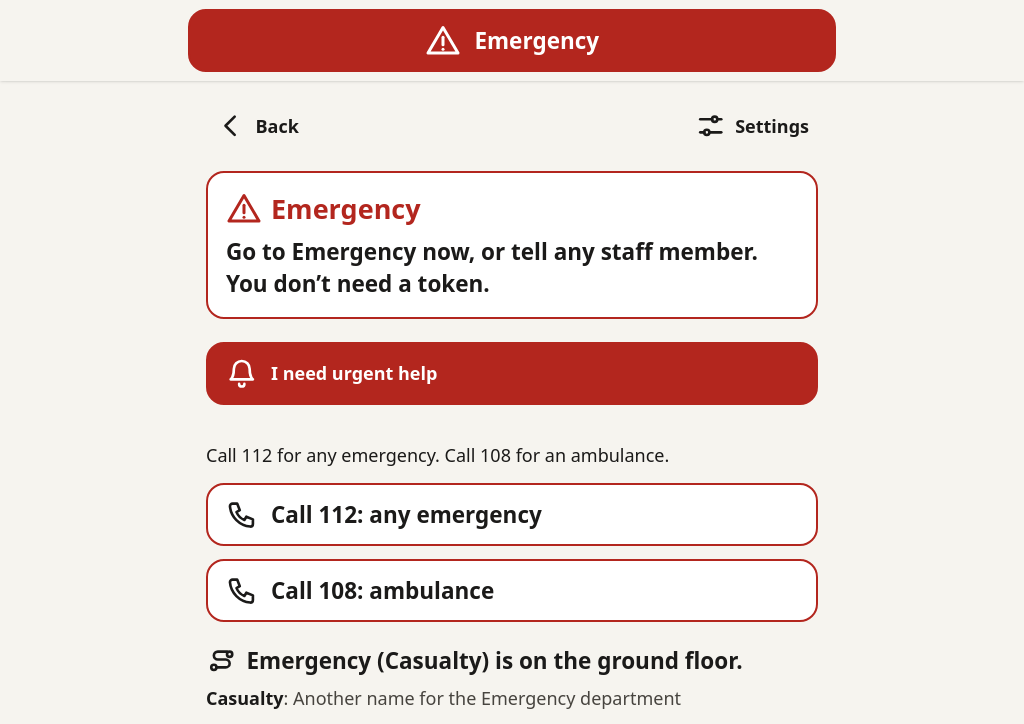
Scenario: I need urgent help › says staff have not been told while nothing is connected
Click the button "I need urgent help": (242, 373) [206,342,818,404]
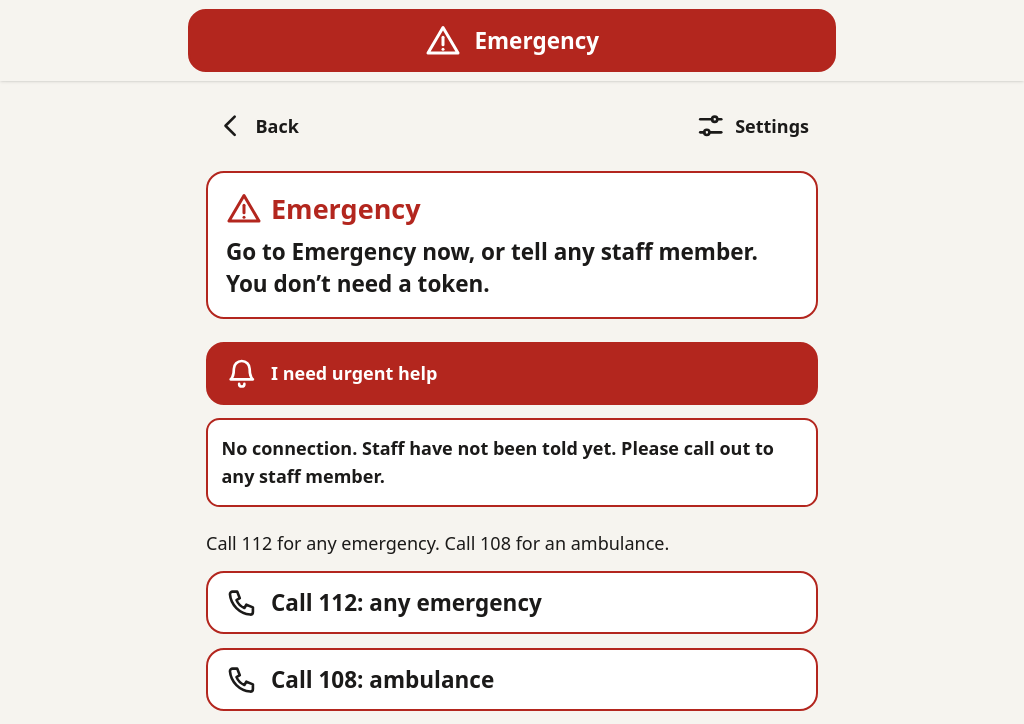
Expected: the message shows "No connection. Staff have not been told yet. Please call out to any staff member.", [222,436,774,488]
